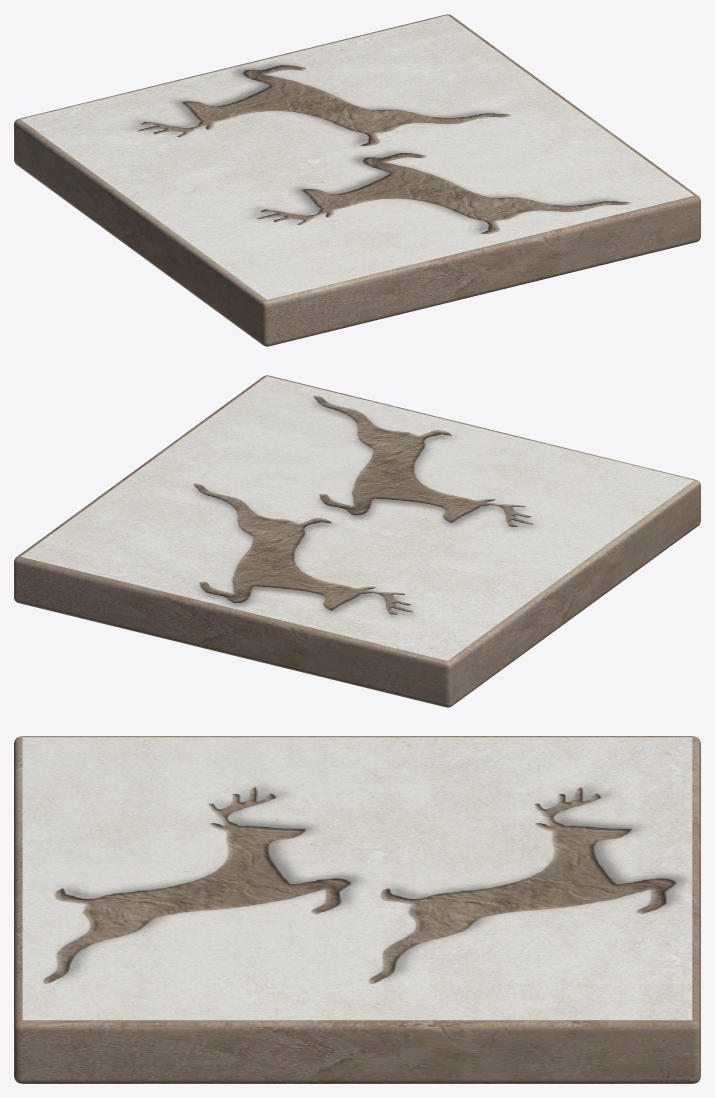
File: tile34.glb
The picture shows the model from 3 angles, top to bottom: view 1: azimuth 30°, elevation 25°; view 2: azimuth 150°, elevation 25°; view 3: azimuth 270°, elevation 25°; orthographic projection. The views are drawn at different scales.
Visible parts, largest first — view 1: Box001; view 2: Box001; view 3: Box001.
Part boxes in pixels (x1,y1,x2,y2): Box001: (14,14,700,346); Box001: (14,375,700,707); Box001: (14,736,700,1083).
Bounding box in the file's own units: 0.254 × 0.0254 × 0.254.
2 materials, 2 textured.
